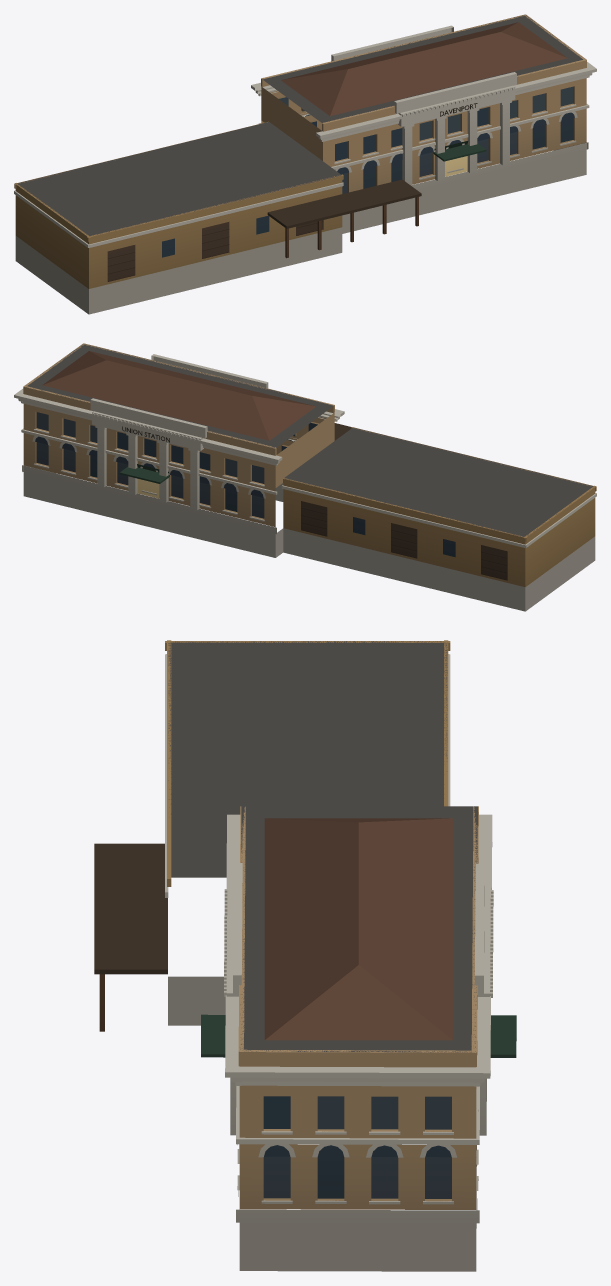
The model's file is unionstation.glb.
3 renders of one model, top to bottom at view 1: azimuth 30°, elevation 25°; view 2: azimuth 150°, elevation 25°; view 3: azimuth 270°, elevation 25°, orthographic. The views are drawn at different scales.
Parts seen in each view (by area): view 1: unionstation_lod0; view 2: unionstation_lod0; view 3: unionstation_lod0.
Part boxes in pixels (left/top/right/bottom): unionstation_lod0: left=14, top=14, right=596, bottom=314; unionstation_lod0: left=14, top=343, right=596, bottom=611; unionstation_lod0: left=94, top=640, right=516, bottom=1271.
Size of what is drawn, in the model's own units: 64.66 by 15.7 by 23.56.
